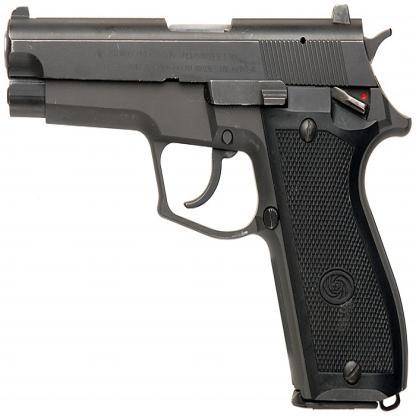gun: (3, 2, 416, 413)
